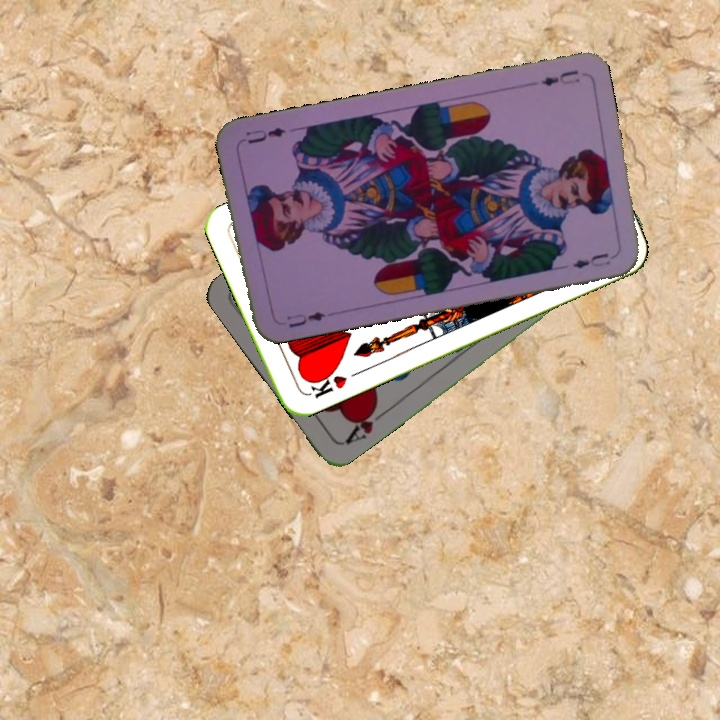EU: (537, 65, 582, 89), (282, 307, 328, 330)
HA: (340, 399, 390, 447)
HK: (303, 366, 350, 401)
